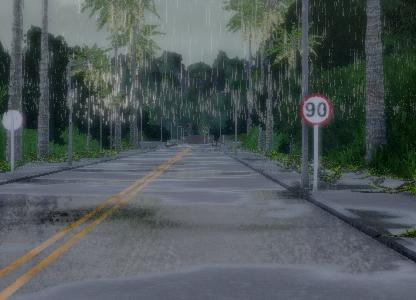Speed_90: (299, 93, 333, 127)
